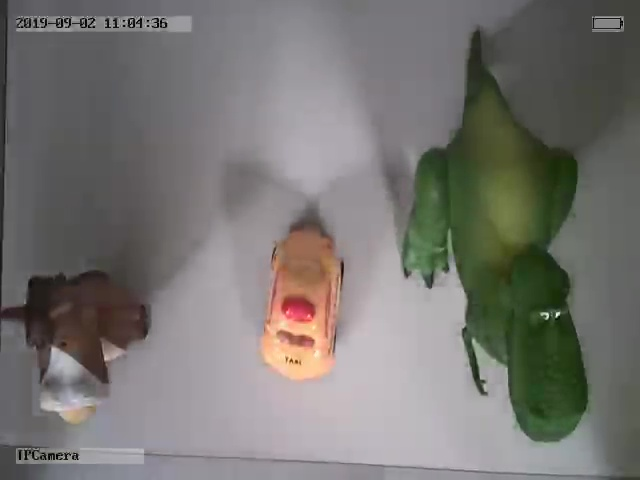car: (260, 223, 346, 381)
horse: (2, 269, 153, 425)
rex: (401, 53, 588, 442)
